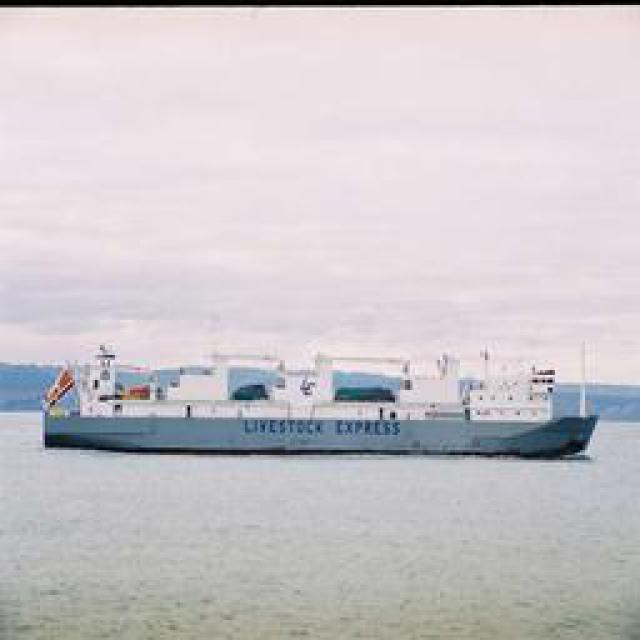Ship: (42, 343, 590, 461)
